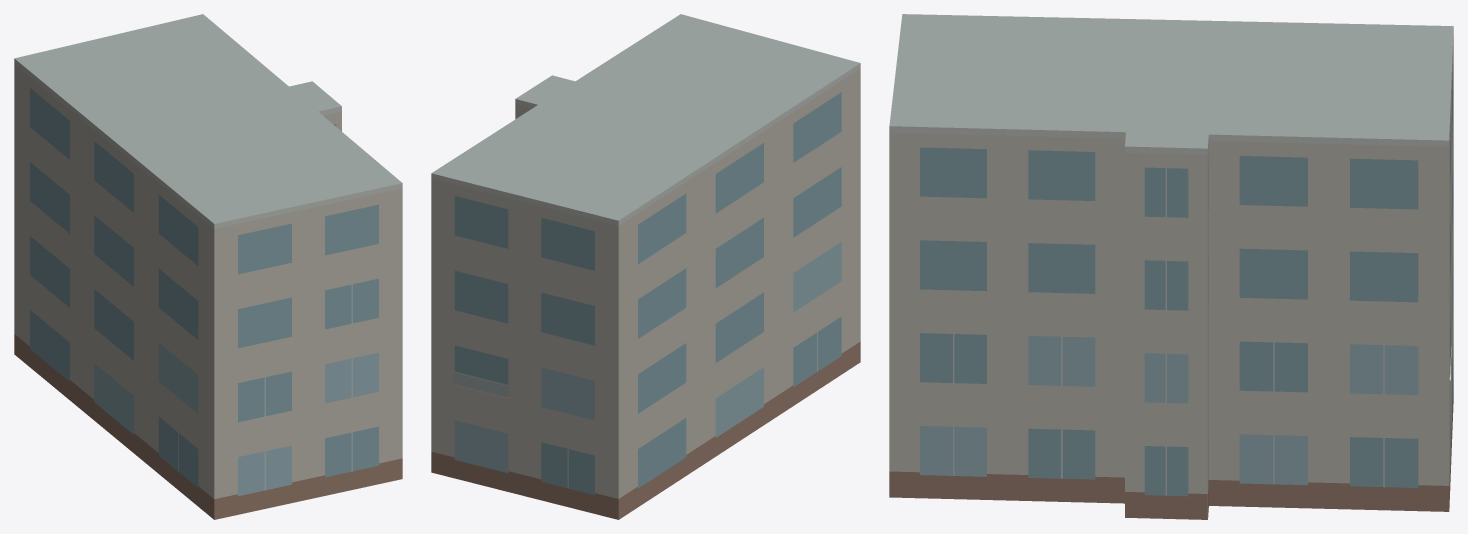
File: survey-upis-32683778.glb
3 views of the same model, side by side, from view 1: azimuth 30°, elevation 25°; view 2: azimuth 150°, elevation 25°; view 3: azimuth 270°, elevation 25° (orthographic). The views are drawn at different scales.
Visible parts, largest first — view 1: survey-upis-32683778.tmp; view 2: survey-upis-32683778.tmp; view 3: survey-upis-32683778.tmp.
Part boxes in pixels (<box>): survey-upis-32683778.tmp: <box>14,14,402,519</box>; survey-upis-32683778.tmp: <box>431,14,860,519</box>; survey-upis-32683778.tmp: <box>889,14,1453,519</box>.
Size of the model in its own units: 11.05 by 14.2 by 19.57.
